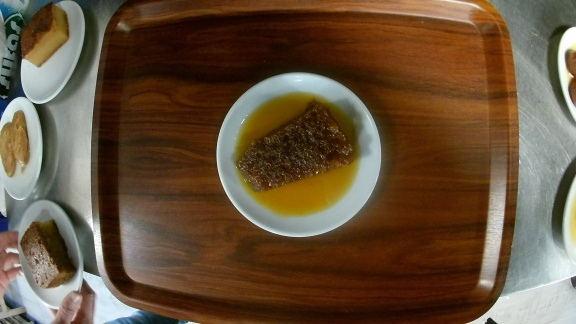ekmekkadayifi: (214, 71, 382, 238)
